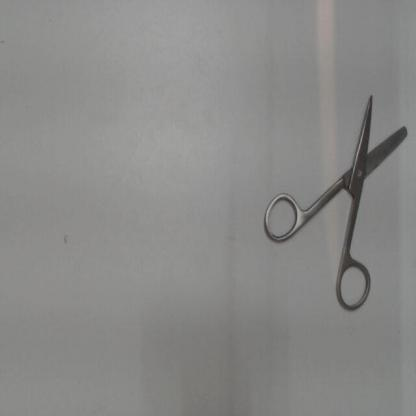Dressing Scissors: (258, 81, 414, 317)
